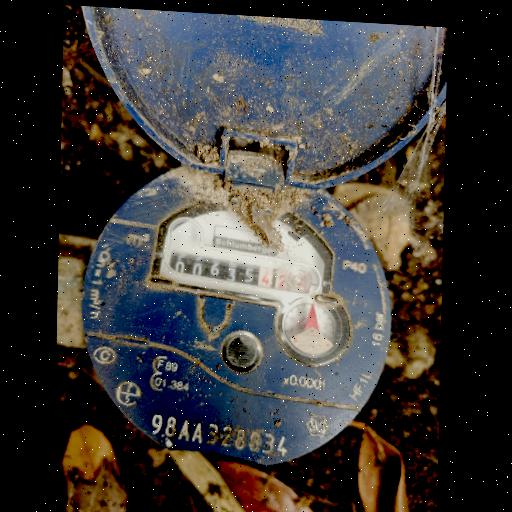0: (189, 254, 208, 278), (173, 251, 190, 275)
2: (273, 269, 291, 292)
3: (223, 259, 242, 283)
4: (257, 265, 273, 287)
5: (241, 263, 258, 285)
6: (207, 257, 224, 279)
border_water_meter_number: (162, 236, 323, 301)
